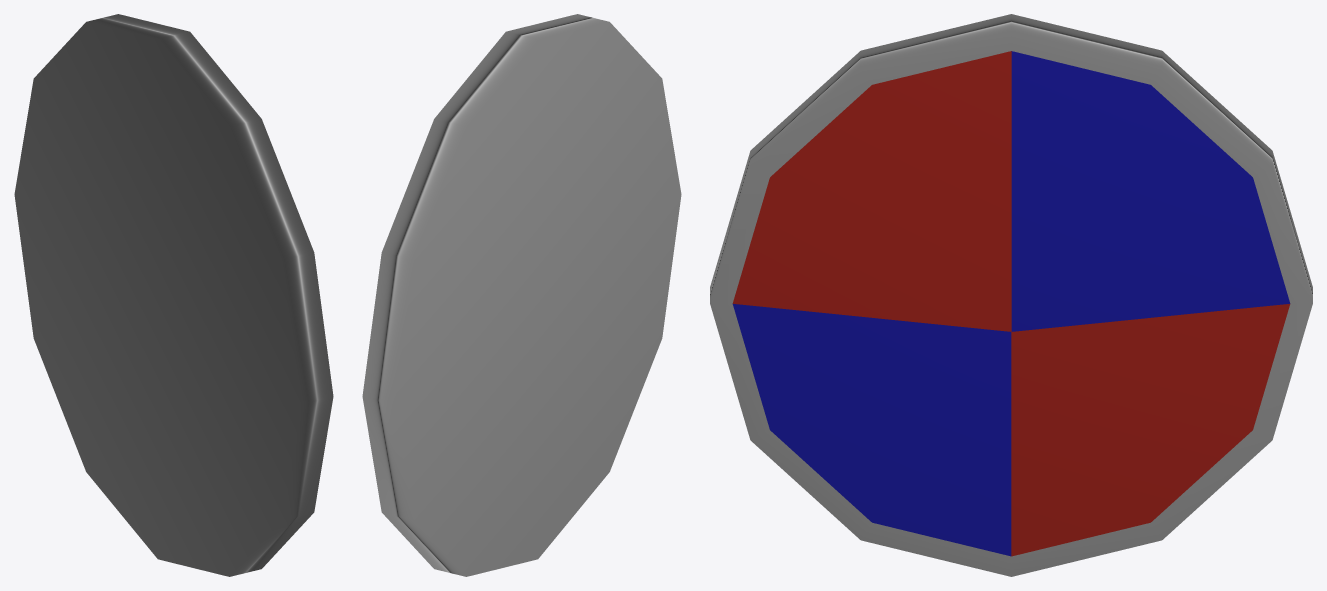
The model's file is Tier04Shield.fbx.
The picture shows the model from 3 angles, left to right: view 1: azimuth 30°, elevation 25°; view 2: azimuth 150°, elevation 25°; view 3: azimuth 270°, elevation 25°; orthographic projection. The views are drawn at different scales.
Visible parts, largest first — view 1: Tier04Shield; view 2: Tier04Shield; view 3: Tier04Shield.
Part boxes in pixels (bbox=[...]): Tier04Shield: bbox=[14, 14, 333, 576]; Tier04Shield: bbox=[362, 14, 681, 576]; Tier04Shield: bbox=[710, 14, 1312, 576].
Size of the model in its own units: 35.09 by 200 by 200.
